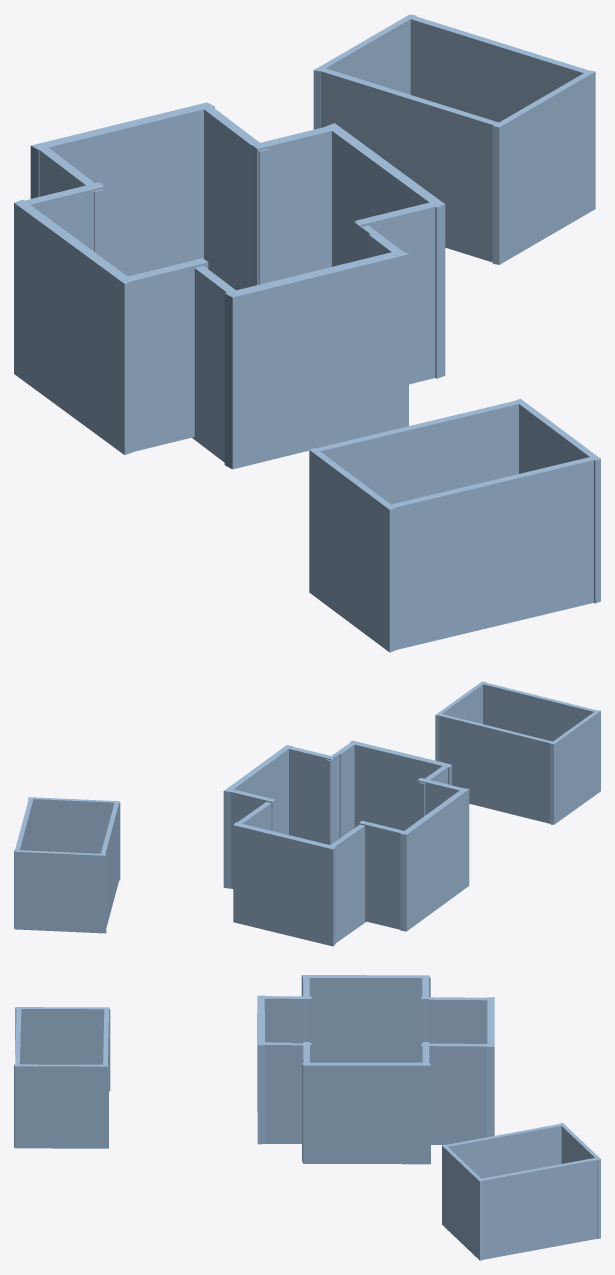
The model's file is cristalesPecera.obj.
The picture shows the model from 3 angles, top to bottom: view 1: azimuth 30°, elevation 25°; view 2: azimuth 150°, elevation 25°; view 3: azimuth 270°, elevation 25°; orthographic projection. The views are drawn at different scales.
Visible parts, largest first — view 1: polySurface28, polySurface24, polySurface17; view 2: polySurface28, polySurface24, polySurface17; view 3: polySurface28, polySurface17, polySurface24.
Part boxes in pixels (bbox=[...]): polySurface28: bbox=[14, 102, 445, 469]; polySurface24: bbox=[309, 398, 600, 652]; polySurface17: bbox=[313, 14, 595, 264]; polySurface28: bbox=[223, 740, 469, 946]; polySurface24: bbox=[435, 681, 600, 824]; polySurface17: bbox=[14, 797, 120, 933]; polySurface28: bbox=[257, 975, 494, 1164]; polySurface17: bbox=[442, 1123, 600, 1260]; polySurface24: bbox=[14, 1007, 110, 1148].
Bounding box in the file's own units: 10.69 × 3.12 × 15.1.
Materials: 2 (2 with a texture image).
